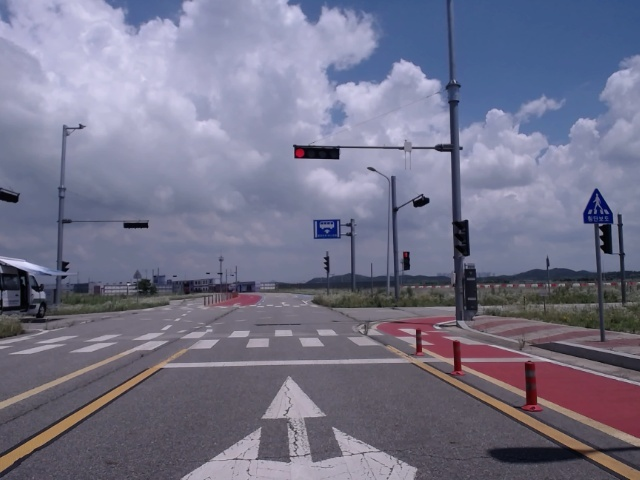red_4: (294, 147, 340, 160)
